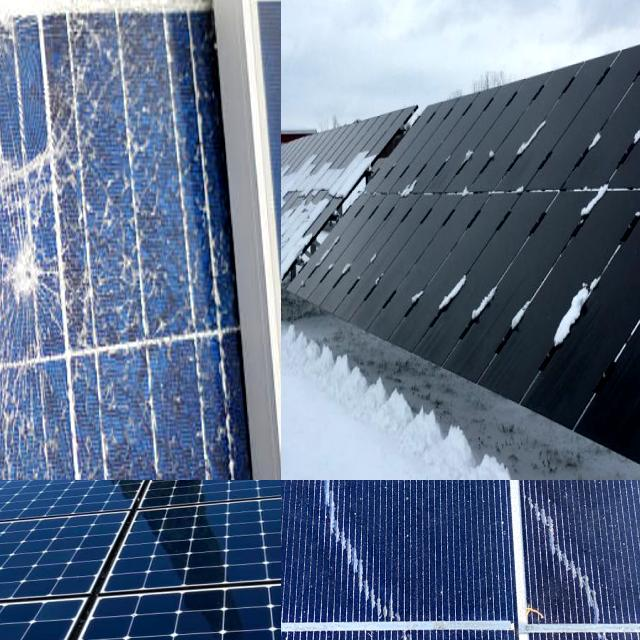crack: (118, 494, 281, 637), (0, 506, 169, 618), (35, 569, 281, 640), (0, 480, 181, 534), (120, 480, 281, 526), (139, 480, 281, 510)
hotspot: (0, 0, 84, 162), (0, 226, 79, 325)
panel: (544, 255, 608, 358), (298, 152, 374, 209), (470, 256, 506, 344), (503, 99, 558, 155), (435, 265, 483, 328), (576, 166, 619, 230), (502, 293, 538, 352), (281, 213, 323, 263), (578, 110, 608, 160), (482, 180, 530, 208), (281, 161, 308, 204), (285, 231, 321, 261), (397, 180, 433, 208), (464, 140, 503, 164), (624, 94, 640, 151), (454, 182, 486, 210), (404, 282, 432, 310), (281, 174, 297, 219), (366, 255, 382, 276), (340, 260, 354, 278)
shadow: (281, 480, 461, 640), (514, 480, 640, 640)
